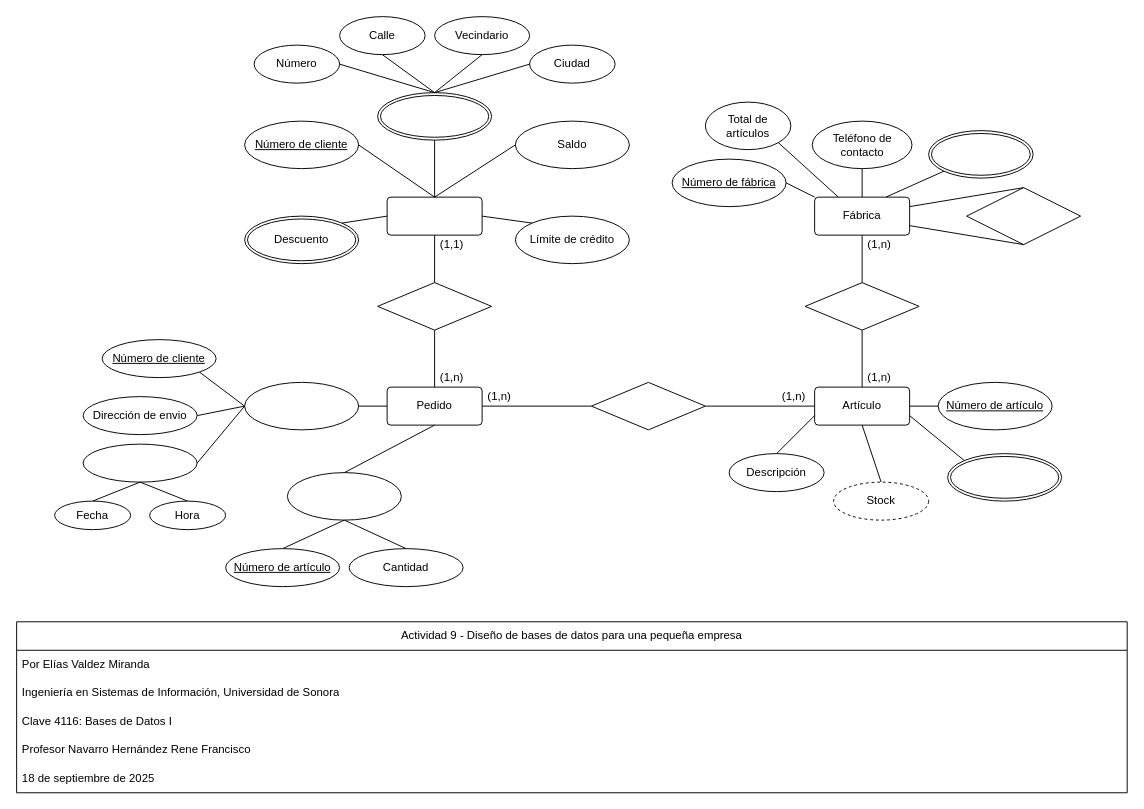
The diagram is 1144 pixels wide and 809 high, and some of its shapes have lost their labels. Each missing label, with the centre of its shape:
Cliente: the point at 434,215
Contiene: the point at 647,405
Crea: the point at 861,306
Cuerpo del pedido: the point at 343,496
Dirección de envío: the point at 434,116
Encabezado de pedido: the point at 301,405
Fecha de pedido: the point at 139,462
Fábricas: the point at 1004,477
Fábricas alternativas: the point at 980,154
Suministra: the point at 1023,216
Tiene: the point at 434,306
